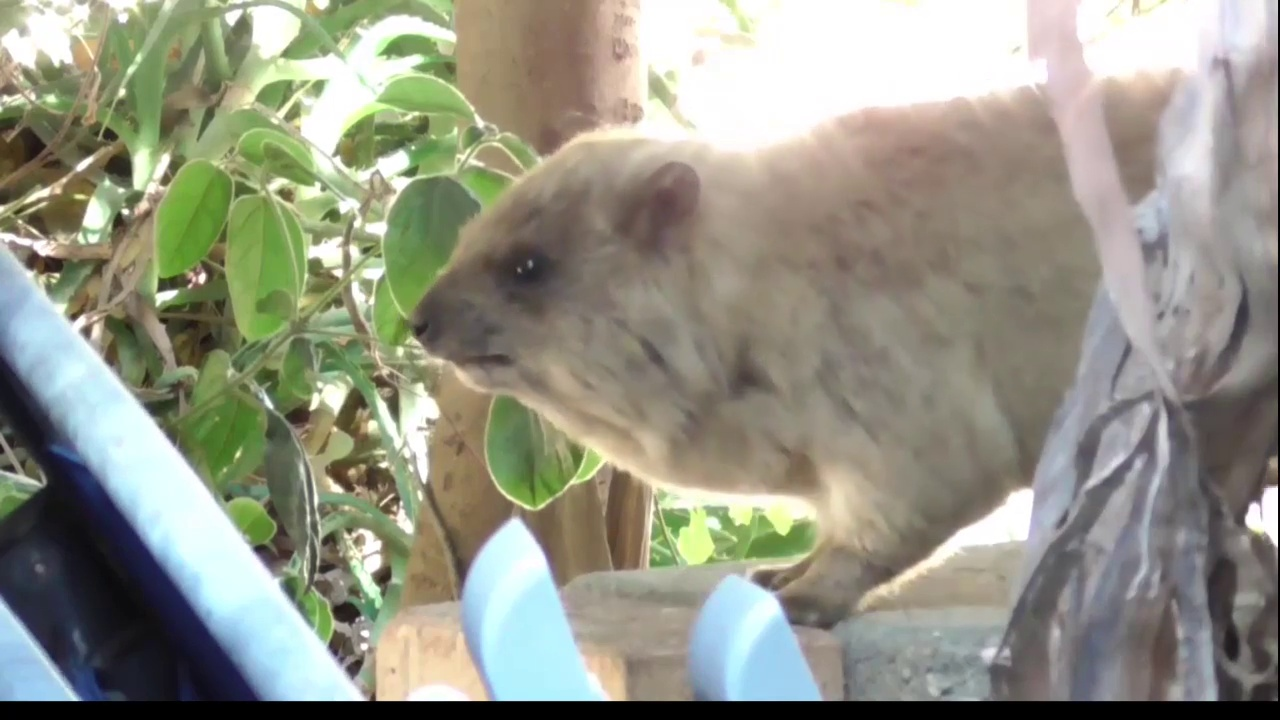Rock Hyrex: (406, 71, 1280, 630)
